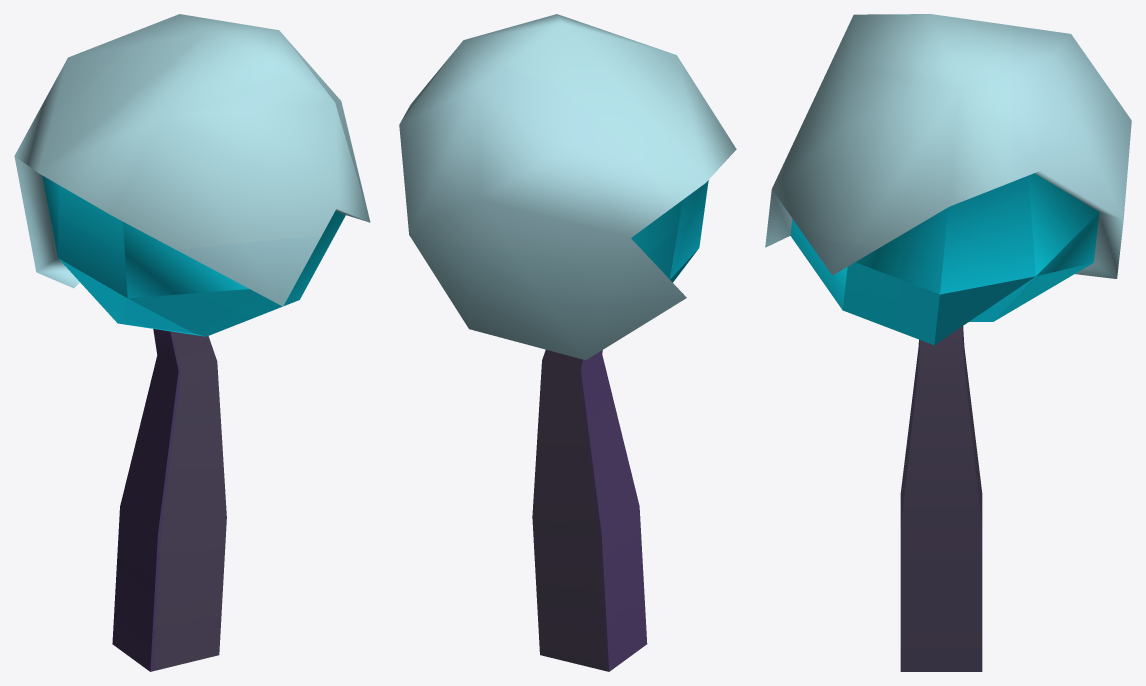
File: Tree1.fbx
3 renders of one model, left to right at view 1: azimuth 30°, elevation 25°; view 2: azimuth 150°, elevation 25°; view 3: azimuth 270°, elevation 25°, orthographic. The views are drawn at different scales.
Visible parts, largest first — view 1: Tree1; view 2: Tree1; view 3: Tree1.
Boxes of the visible parts, x1,y1,x2,y2 form: Tree1: (14,14,370,671); Tree1: (399,14,736,671); Tree1: (765,14,1131,671).
Size of the model in its own units: 2.67 by 5.22 by 2.64.
